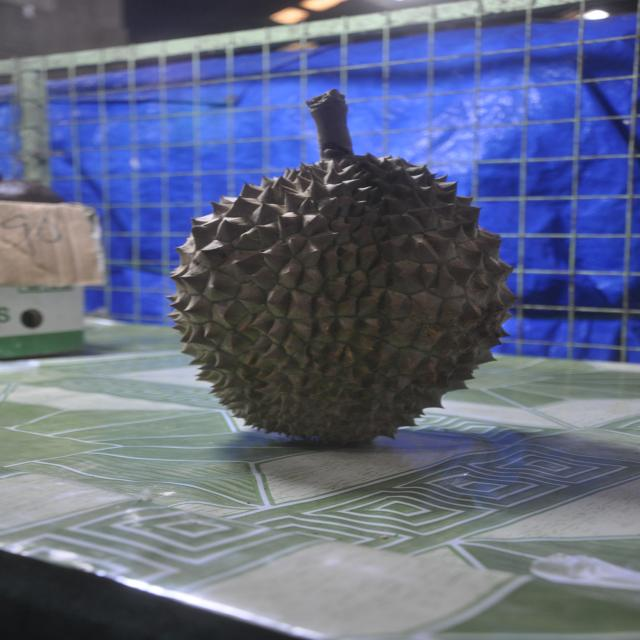mature: (170, 89, 516, 444)
